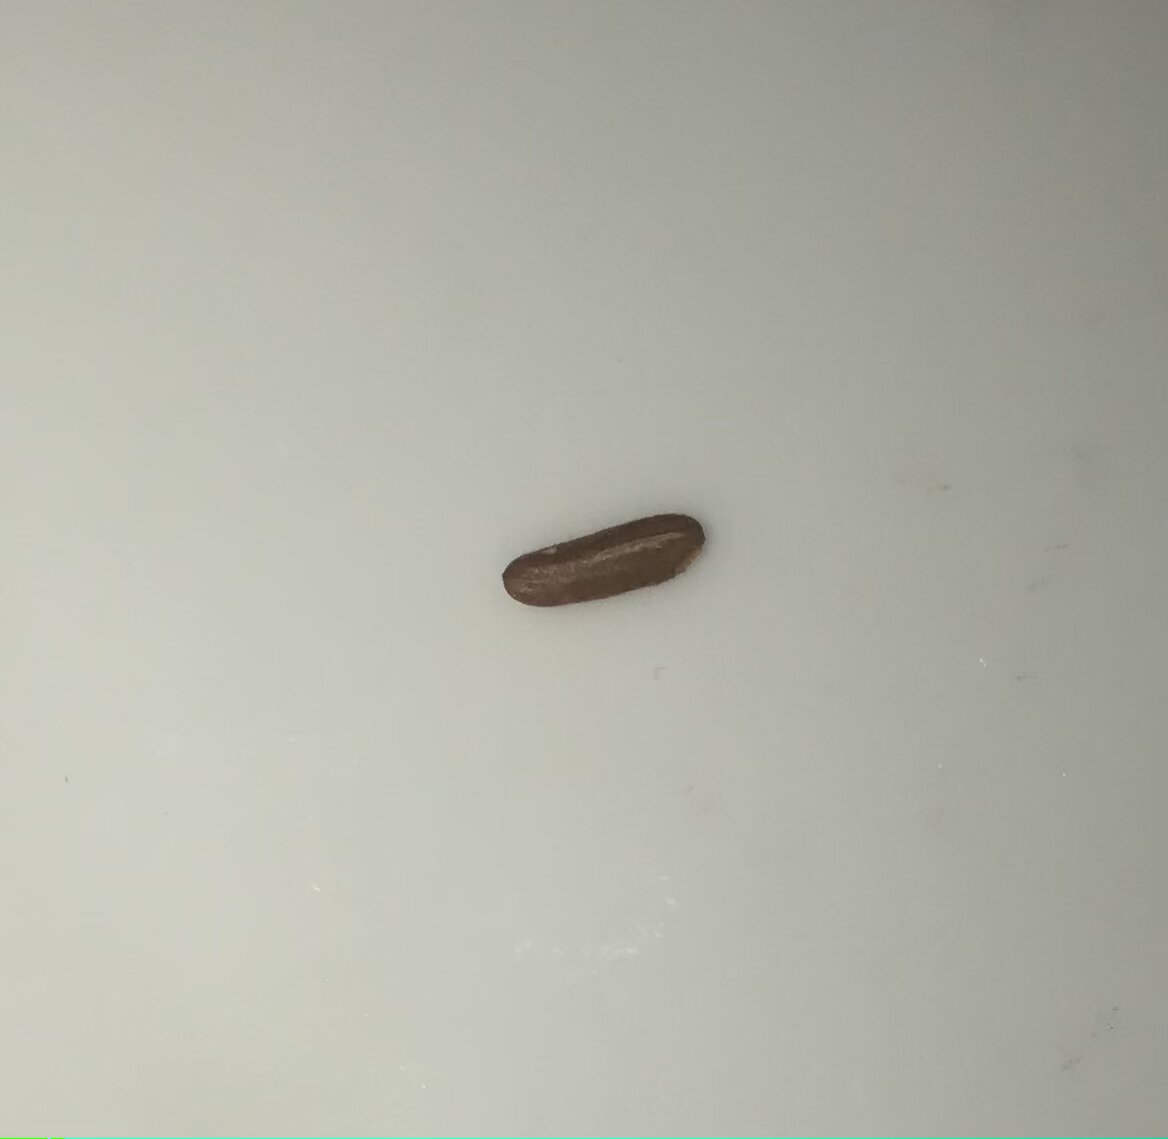Gao Huyet Rong: (497, 499, 715, 624)
